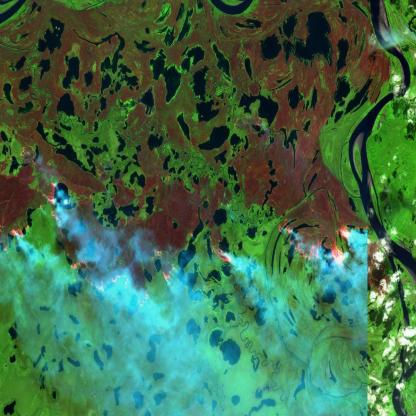fire: (0, 144, 368, 316)
